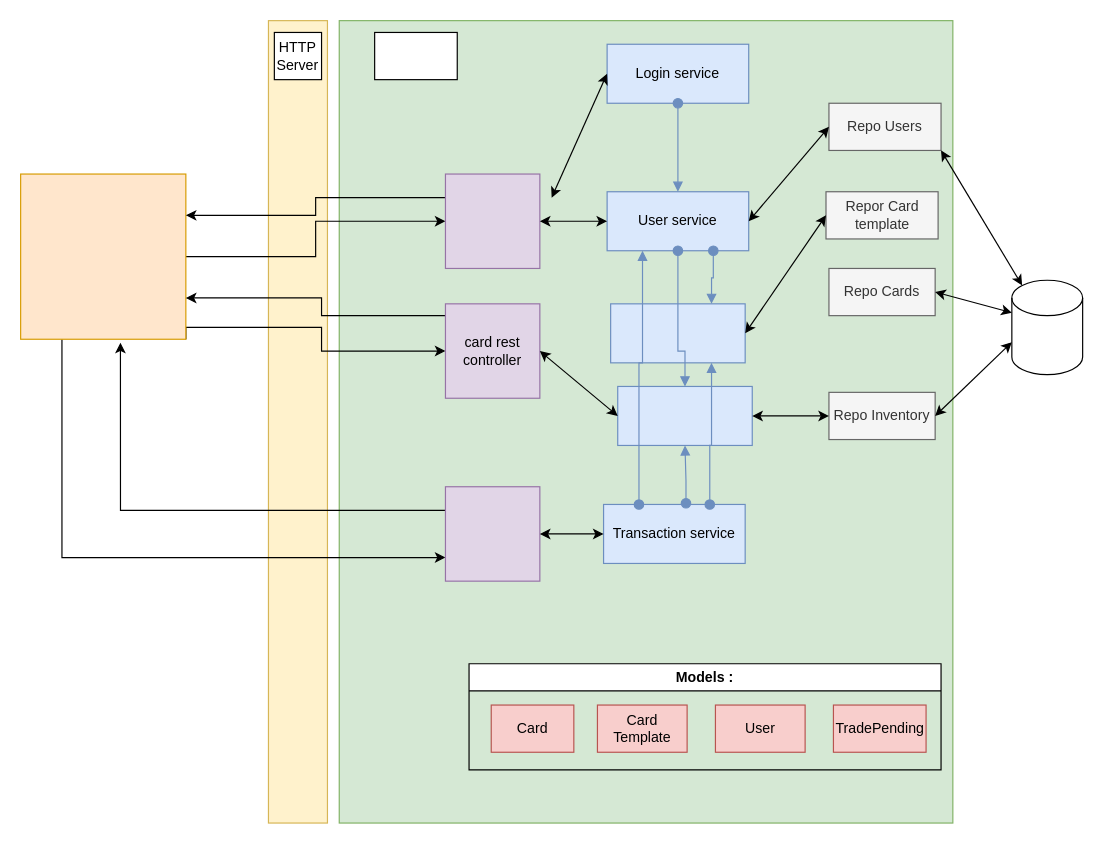
The diagram is 1103 pixels wide and 844 high, and some of its shapes have lost their labels. Here are the shapes that lost their labels. From the top down, the centre of each, then its label:
At [415,55]: "Web Server".
At [492,220]: "user rest controller".
At [102,256]: "Web Browser".
At [677,333]: "Card Service".
At [1047,327]: "Database".
At [684,415]: "Inventory service".
At [492,533]: "store rest controller".
